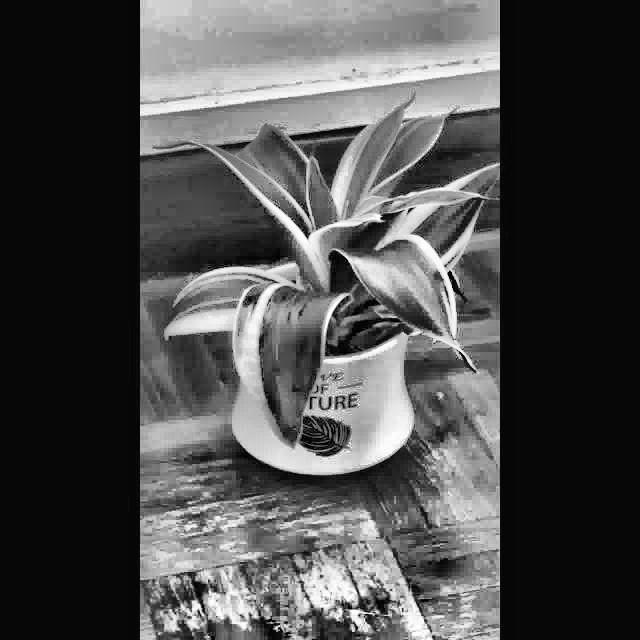plants: (146, 86, 500, 484)
